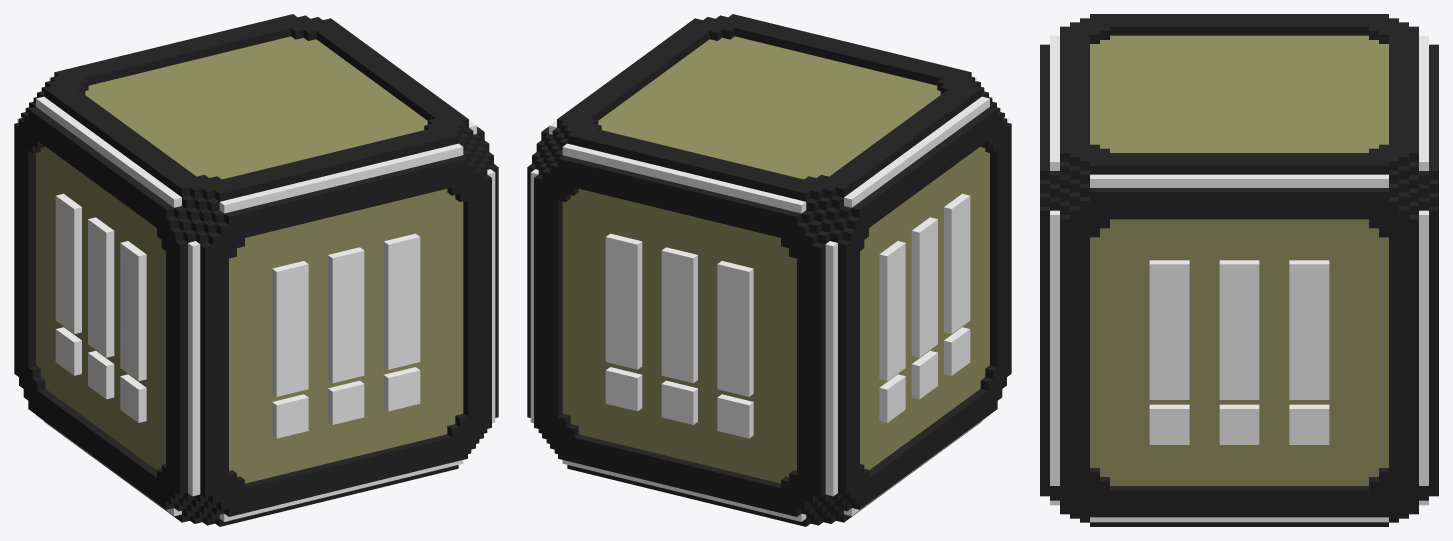
File: weapon_upgrade.fbx
3 renders of one model, left to right at view 1: azimuth 30°, elevation 25°; view 2: azimuth 150°, elevation 25°; view 3: azimuth 270°, elevation 25°, orthographic. The views are drawn at different scales.
Visible parts, largest first — view 1: weapon_upgrade.001; view 2: weapon_upgrade.001; view 3: weapon_upgrade.001.
Part boxes in pixels (x1,y1,x2,y2): weapon_upgrade.001: (14,14,498,526); weapon_upgrade.001: (527,14,1011,526); weapon_upgrade.001: (1040,14,1438,526).
Size of the model in its own units: 40 by 40 by 40.
